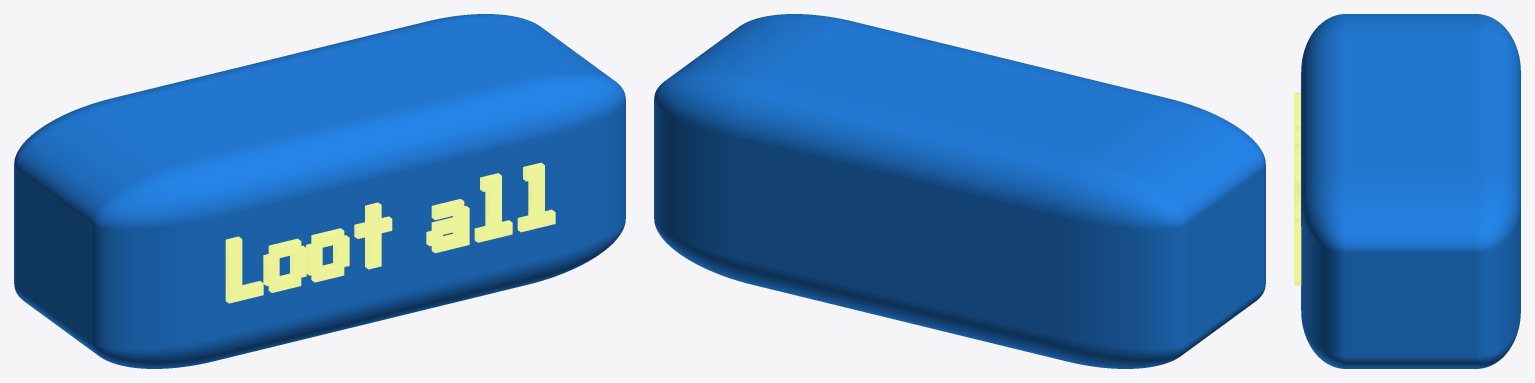
Rendered from buttonLoot-all.gltf.
3 views of the same model, side by side, from view 1: azimuth 30°, elevation 25°; view 2: azimuth 150°, elevation 25°; view 3: azimuth 270°, elevation 25° (orthographic). The views are drawn at different scales.
Visible parts, largest first — view 1: button_loot-all, button_loot-all_text; view 2: button_loot-all; view 3: button_loot-all, button_loot-all_text.
Boxes of the visible parts, x1=… form: button_loot-all: x1=14, y1=14, x2=625, y2=368; button_loot-all_text: x1=225, y1=162, x2=555, y2=303; button_loot-all: x1=654, y1=14, x2=1265, y2=368; button_loot-all: x1=1301, y1=14, x2=1520, y2=368; button_loot-all_text: x1=1294, y1=92, x2=1301, y2=285.
Size of the model in its own units: 0.5407 by 0.1955 by 0.229.
